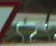Give way: (0, 0, 23, 45)
